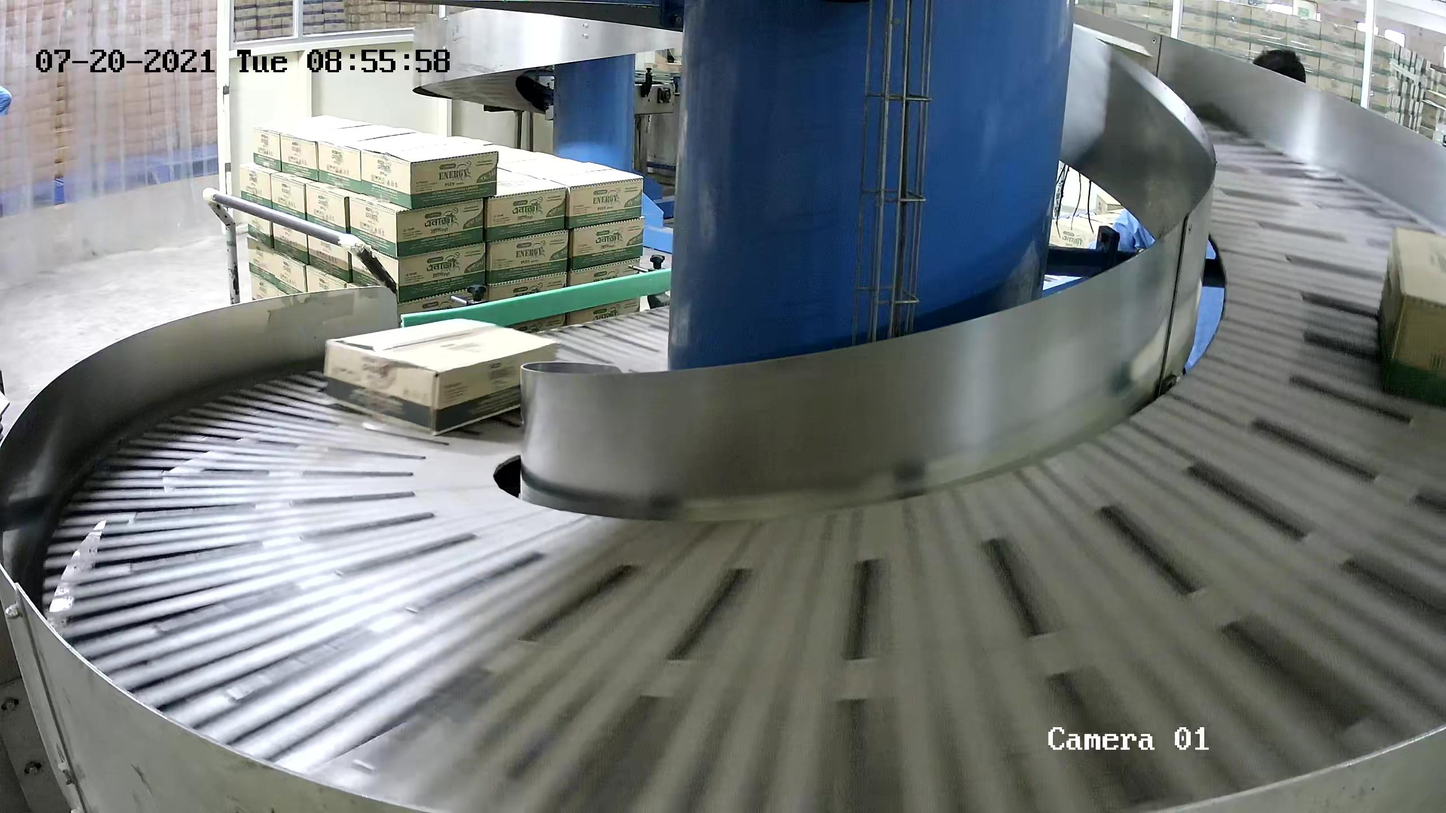Box: (321, 315, 562, 437), (1374, 227, 1446, 417)
